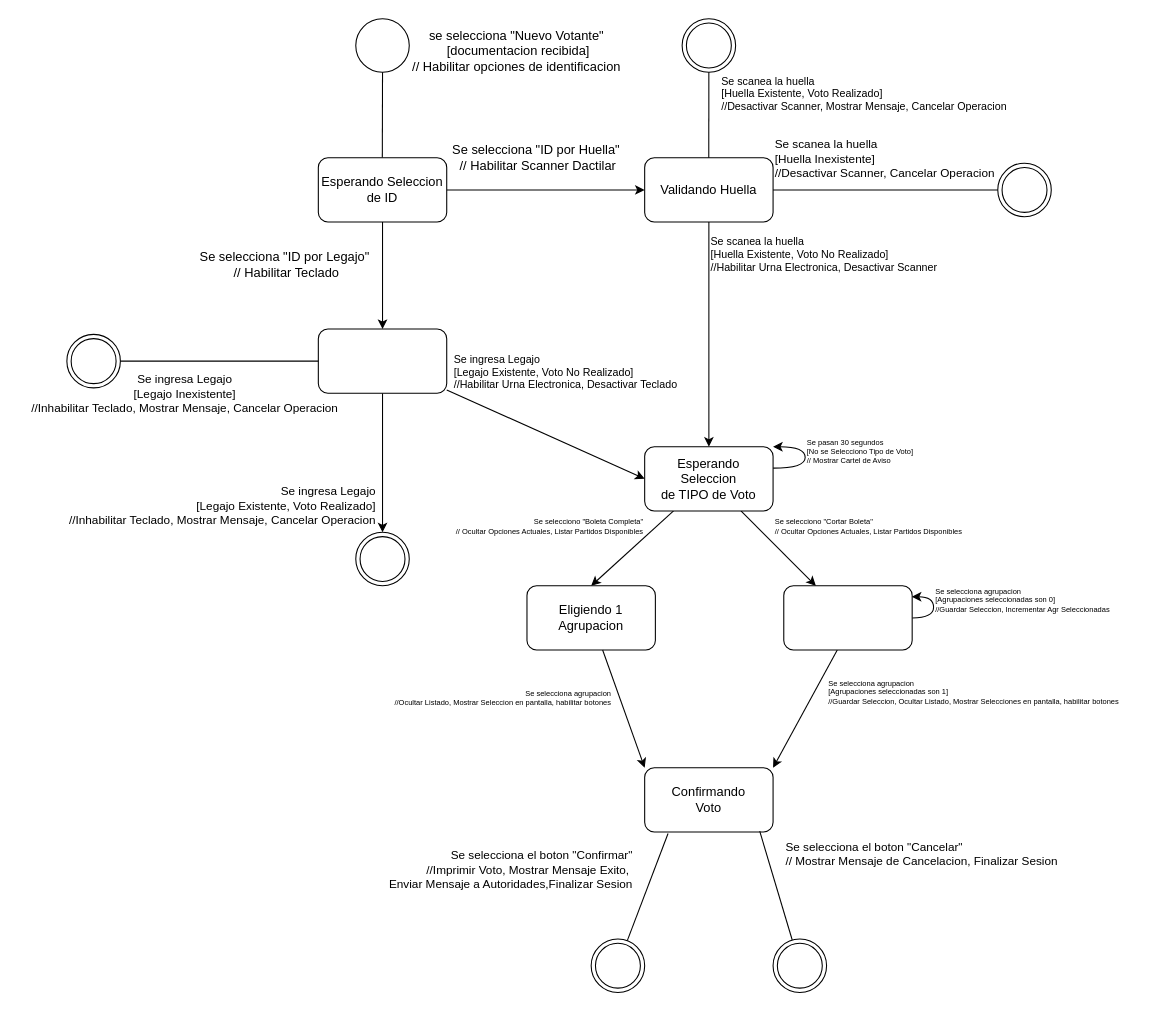
This 1165x1011 diagram has some shape labels left out. The centre of each missing label's shape, as x and y in pixels:
Eligiendo 2 Agrupaciones: the point at 847,617
Validando Legajo: the point at 382,360
